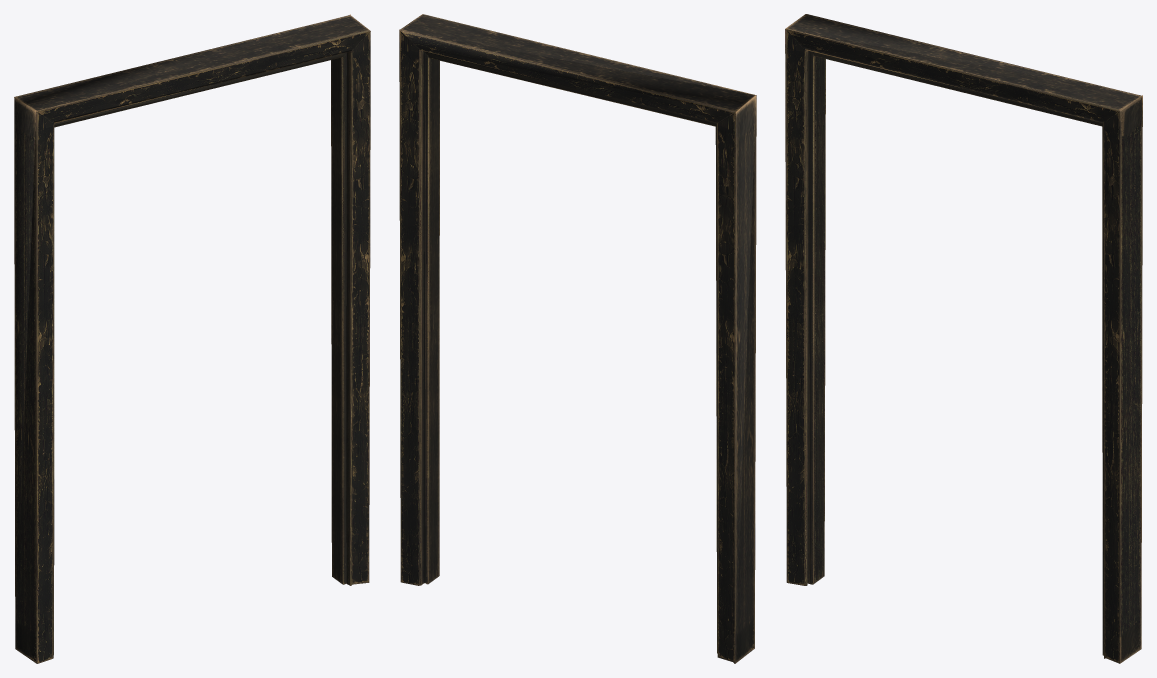
Rendered from big door jamb.fbx.
3 renders of one model, left to right at view 1: azimuth 30°, elevation 25°; view 2: azimuth 150°, elevation 25°; view 3: azimuth 330°, elevation 25°, orthographic.
Visible parts, largest first — view 1: mesh_node; view 2: mesh_node; view 3: mesh_node.
Boxes of the visible parts, bbox=[...] form: mesh_node: bbox=[14, 14, 370, 663]; mesh_node: bbox=[399, 14, 756, 663]; mesh_node: bbox=[785, 14, 1142, 663].
Bounding box in the file's own units: 63.67 × 100 × 7.15.
1 material, 1 textured.
